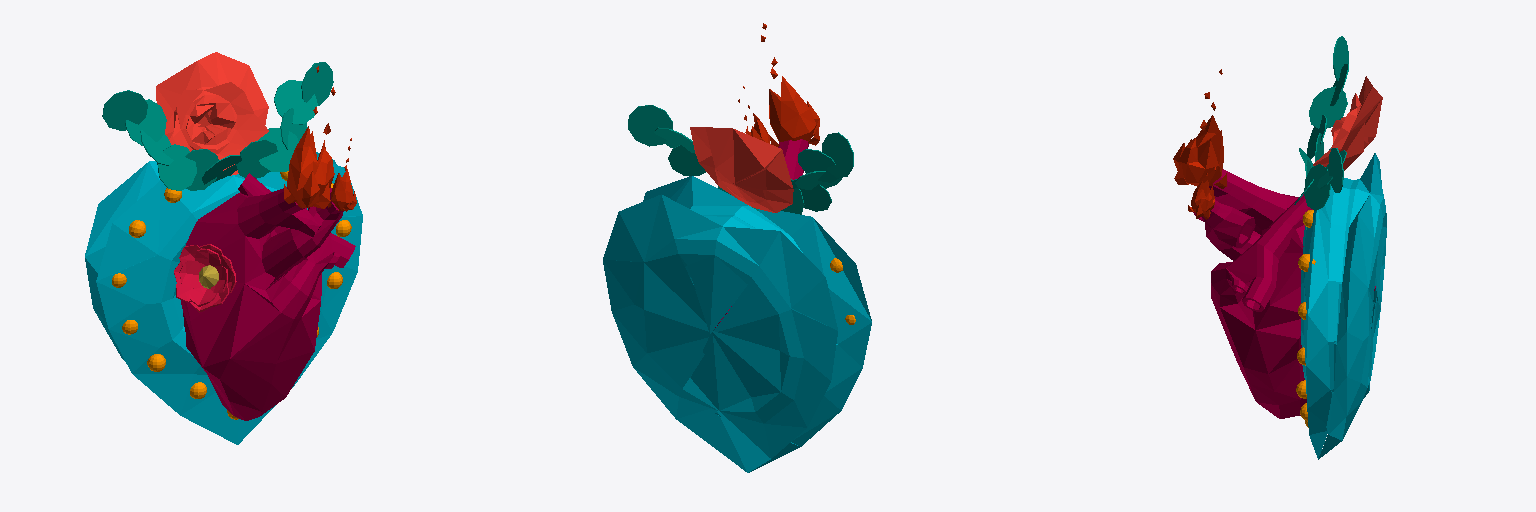
Rendered from oahack.obj.
3 renders of one model, left to right at view 1: azimuth 30°, elevation 25°; view 2: azimuth 150°, elevation 25°; view 3: azimuth 270°, elevation 25°, orthographic.
Visible parts, largest first — view 1: Heart, mesh[number redacted], mesh[number redacted], campfire, mesh[number redacted], pCube13, mesh[number redacted], mesh[number redacted], mesh[number redacted], mesh[number redacted], mesh[number redacted], mesh[number redacted] (+4 smaller); view 2: mesh[number redacted], mesh[number redacted], mesh[number redacted], campfire, mesh[number redacted], mesh[number redacted], mesh[number redacted], mesh[number redacted], Heart, mesh[number redacted]; view 3: Heart, mesh[number redacted], mesh[number redacted], campfire, mesh[number redacted], mesh[number redacted], mesh[number redacted], mesh[number redacted].
Boxes of the visible parts, x1=… form: Heart: x1=181, y1=173, x2=355, y2=420; mesh[number redacted]: x1=96, y1=157, x2=362, y2=444; mesh[number redacted]: x1=156, y1=52, x2=268, y2=175; campfire: x1=284, y1=66, x2=356, y2=211; mesh[number redacted]: x1=85, y1=152, x2=336, y2=360; pCube13: x1=174, y1=244, x2=236, y2=312; mesh[number redacted]: x1=102, y1=90, x2=147, y2=130; mesh[number redacted]: x1=157, y1=144, x2=196, y2=190; mesh[number redacted]: x1=274, y1=80, x2=317, y2=124; mesh[number redacted]: x1=301, y1=62, x2=333, y2=105; mesh[number redacted]: x1=236, y1=139, x2=277, y2=178; mesh[number redacted]: x1=258, y1=128, x2=298, y2=171; mesh[number redacted]: x1=603, y1=194, x2=837, y2=472; mesh[number redacted]: x1=643, y1=176, x2=871, y2=472; mesh[number redacted]: x1=690, y1=127, x2=793, y2=212; campfire: x1=738, y1=23, x2=819, y2=146; mesh[number redacted]: x1=628, y1=105, x2=672, y2=146; mesh[number redacted]: x1=822, y1=132, x2=853, y2=177; mesh[number redacted]: x1=798, y1=149, x2=838, y2=182; mesh[number redacted]: x1=668, y1=145, x2=705, y2=175; Heart: x1=715, y1=139, x2=808, y2=327; mesh[number redacted]: x1=791, y1=179, x2=831, y2=211; Heart: x1=1193, y1=169, x2=1375, y2=418; mesh[number redacted]: x1=1318, y1=153, x2=1386, y2=459; mesh[number redacted]: x1=1301, y1=148, x2=1353, y2=458; campfire: x1=1173, y1=69, x2=1226, y2=219; mesh[number redacted]: x1=1313, y1=76, x2=1382, y2=170; mesh[number redacted]: x1=1309, y1=86, x2=1347, y2=128; mesh[number redacted]: x1=1304, y1=164, x2=1330, y2=210; mesh[number redacted]: x1=1328, y1=148, x2=1343, y2=192.
Size of the model in its own units: 6.66 by 9.81 by 4.68.